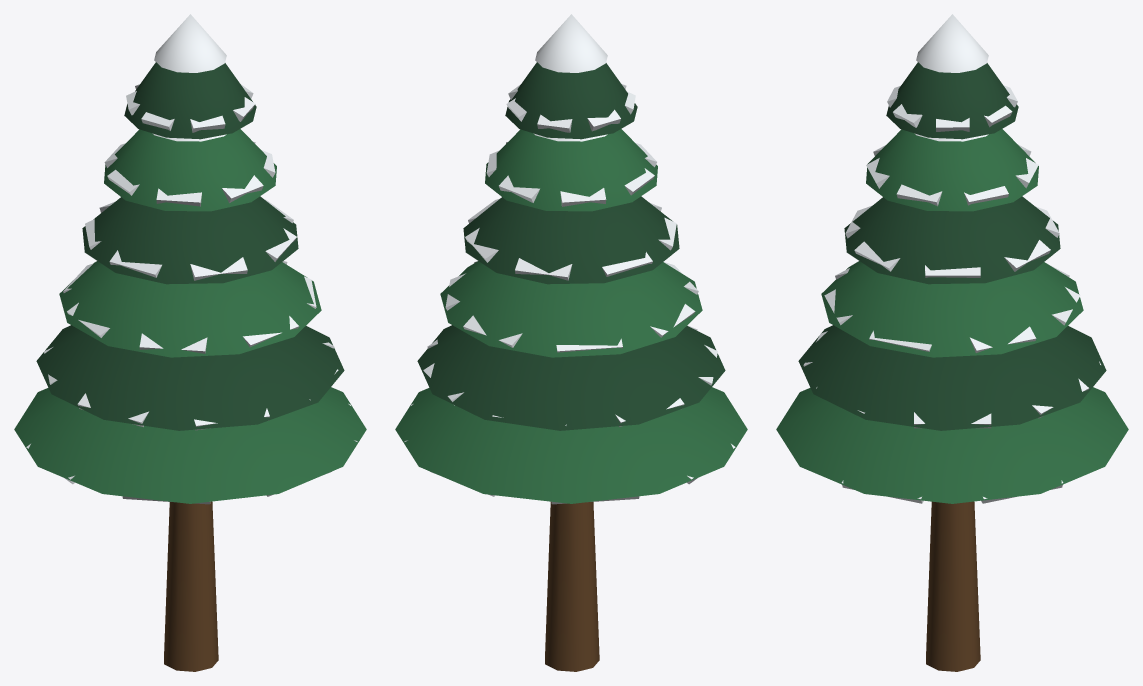
The model's file is arbre_toundra_1.glb.
3 renders of one model, left to right at view 1: azimuth 30°, elevation 25°; view 2: azimuth 150°, elevation 25°; view 3: azimuth 270°, elevation 25°, orthographic.
Visible parts, largest first — view 1: sapin_etage_0.002, sapin_etage_1.002, sapin_etage_2.002, sapin_etage_3.002, sapin_etage_4.002, sapin_tronc.002, sapin_etage_5.001, sapin_neige_5.001, sapin_bord_3_neige.002, sapin_bord_4_neige.002, sapin_bord_2_neige.002, sapin_bord_5_neige.001 (+1 smaller); view 2: sapin_etage_0.002, sapin_etage_1.002, sapin_etage_2.002, sapin_etage_3.002, sapin_etage_4.002, sapin_tronc.002, sapin_etage_5.001, sapin_neige_5.001, sapin_bord_3_neige.002, sapin_bord_4_neige.002, sapin_bord_2_neige.002, sapin_bord_5_neige.001 (+1 smaller); view 3: sapin_etage_0.002, sapin_etage_1.002, sapin_etage_2.002, sapin_etage_3.002, sapin_etage_4.002, sapin_tronc.002, sapin_etage_5.001, sapin_neige_5.001, sapin_bord_3_neige.002, sapin_bord_4_neige.002, sapin_bord_2_neige.002, sapin_bord_5_neige.001 (+1 smaller).
Boxes of the visible parts, bbox=[...] form: sapin_etage_0.002: bbox=[14, 387, 366, 503]; sapin_etage_1.002: bbox=[36, 325, 344, 430]; sapin_etage_2.002: bbox=[59, 261, 321, 357]; sapin_etage_3.002: bbox=[82, 196, 298, 284]; sapin_etage_4.002: bbox=[104, 129, 276, 211]; sapin_tronc.002: bbox=[164, 501, 218, 671]; sapin_etage_5.001: bbox=[124, 62, 256, 139]; sapin_neige_5.001: bbox=[154, 14, 226, 72]; sapin_bord_3_neige.002: bbox=[85, 199, 296, 280]; sapin_bord_4_neige.002: bbox=[104, 141, 275, 206]; sapin_bord_2_neige.002: bbox=[63, 261, 316, 353]; sapin_bord_5_neige.001: bbox=[126, 84, 255, 132]; sapin_etage_0.002: bbox=[395, 387, 747, 503]; sapin_etage_1.002: bbox=[417, 325, 725, 430]; sapin_etage_2.002: bbox=[440, 261, 702, 357]; sapin_etage_3.002: bbox=[463, 196, 679, 284]; sapin_etage_4.002: bbox=[485, 129, 657, 211]; sapin_tronc.002: bbox=[545, 502, 599, 671]; sapin_etage_5.001: bbox=[505, 62, 637, 139]; sapin_neige_5.001: bbox=[535, 14, 607, 72]; sapin_bord_3_neige.002: bbox=[465, 198, 676, 280]; sapin_bord_4_neige.002: bbox=[486, 142, 656, 206]; sapin_bord_2_neige.002: bbox=[445, 261, 698, 352]; sapin_bord_5_neige.001: bbox=[506, 84, 635, 132]; sapin_etage_0.002: bbox=[776, 387, 1128, 503]; sapin_etage_1.002: bbox=[798, 325, 1106, 430]; sapin_etage_2.002: bbox=[821, 261, 1083, 357]; sapin_etage_3.002: bbox=[844, 196, 1060, 284]; sapin_etage_4.002: bbox=[866, 129, 1038, 211]; sapin_tronc.002: bbox=[926, 501, 980, 671]; sapin_etage_5.001: bbox=[886, 62, 1018, 139]; sapin_neige_5.001: bbox=[916, 14, 988, 72]; sapin_bord_3_neige.002: bbox=[845, 206, 1059, 277]; sapin_bord_4_neige.002: bbox=[866, 144, 1038, 206]; sapin_bord_2_neige.002: bbox=[824, 265, 1080, 352]; sapin_bord_5_neige.001: bbox=[887, 85, 1017, 131].
Size of the model in its own units: 2.5 by 5.05 by 2.5.
